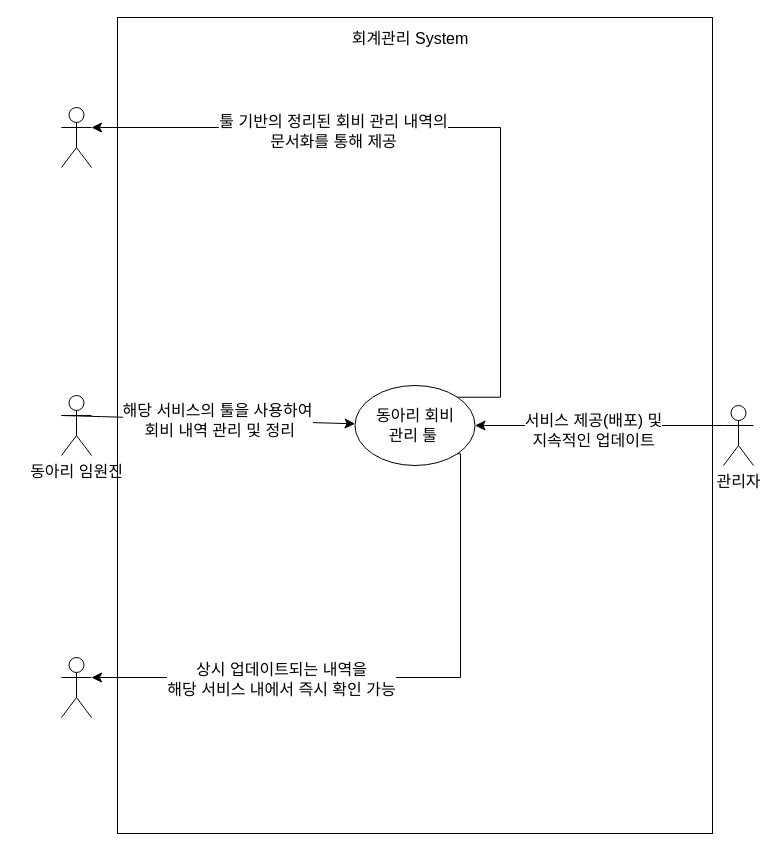
The diagram is 778 pixels wide and 851 high, and some of its shapes have lost their labels. Here are the shapes that lost their labels. From the top down, the centre of each, then its label:
At point (76, 137): "동아리감사위원회".
At point (76, 687): "동아리 부원".
